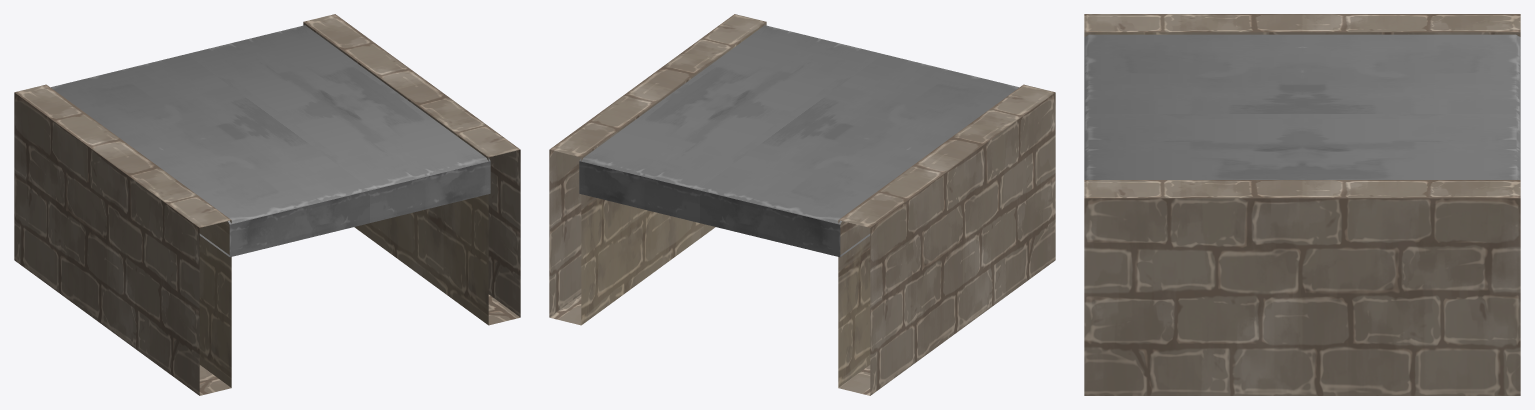
Rendered from Stairs_Exterior_Platform.gltf.
3 views of the same model, side by side, from view 1: azimuth 30°, elevation 25°; view 2: azimuth 150°, elevation 25°; view 3: azimuth 270°, elevation 25° (orthographic). The views are drawn at different scales.
Visible parts, largest first — view 1: Stairs_Exterior_Platform; view 2: Stairs_Exterior_Platform; view 3: Stairs_Exterior_Platform.
Boxes of the visible parts, x1,y1,x2,y2 form: Stairs_Exterior_Platform: [14, 14, 520, 395]; Stairs_Exterior_Platform: [549, 14, 1055, 395]; Stairs_Exterior_Platform: [1084, 14, 1520, 395].
Size of the model in its own units: 2 by 1 by 2.
Materials: 2 (2 with a texture image).
